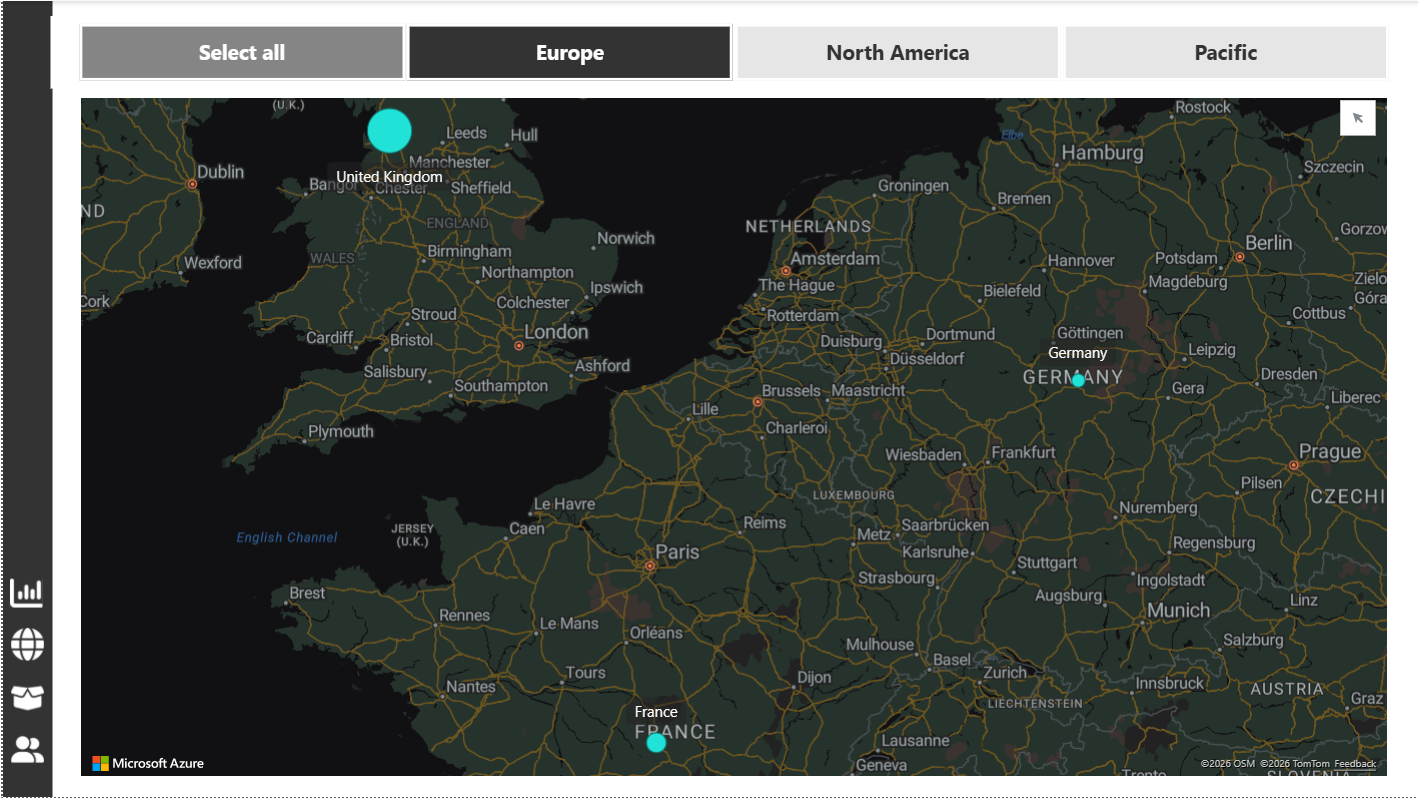

Layout of this report page (visuals, bound fields, positions):
{"tool":"powerbi","page":{"name":"Map","canvas":[1280,720],"ordinal":1},"visuals":[{"type":"shape","box":[0,0,45,720],"z":0},{"type":"actionButton","box":[2.5,516.7,45.6,37.8],"z":0,"group":"g1"},{"type":"azureMap","fields":{"Category":["Territory Lookup.Country"],"Size":["Measure Table.Total Orders"]},"box":[65.6,82.5,1191.3,622.8],"z":1000},{"type":"actionButton","box":[3.3,563.4,45.6,37.8],"z":1000,"group":"g1"},{"type":"slicer","fields":{"Values":["Territory Lookup.Continent"]},"box":[43,13.6,1234.3,65.6],"z":2000},{"type":"actionButton","box":[3.3,611.1,45.6,37.8],"z":2000,"group":"g1"},{"type":"group","id":"g1","title":"Navigation Buttons","box":[2.5,516.7,46.4,178.9],"z":3000},{"type":"actionButton","box":[3.3,657.8,45.6,37.8],"z":3000,"group":"g1"}]}

Visuals, with their boxes in screenshot pixels (x1, y1, x2, y2):
shape: 0,7,49,794
actionButton: 3,572,53,613
azureMap - Territory Lookup.Country x Measure Table.Total Orders: 72,98,1373,778
actionButton: 4,623,53,664
slicer - Territory Lookup.Continent: 47,22,1395,94
actionButton: 4,675,53,716
"Navigation Buttons" group: 3,572,53,767
actionButton: 4,726,53,767
